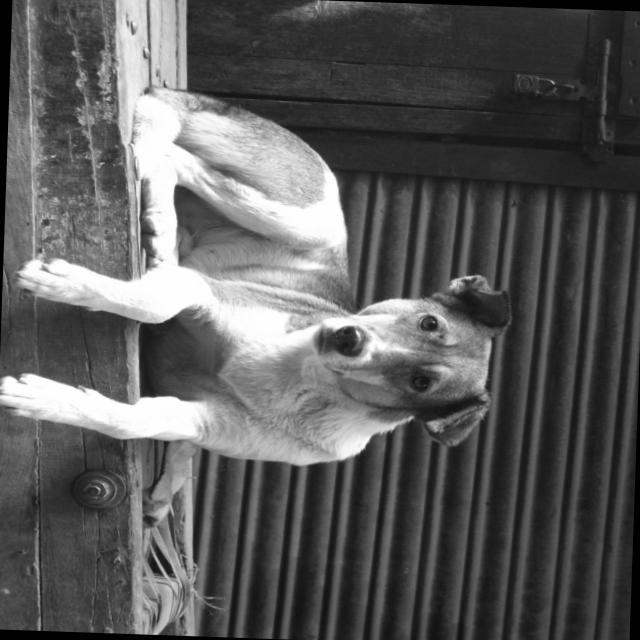laying down: (0, 73, 522, 525)
